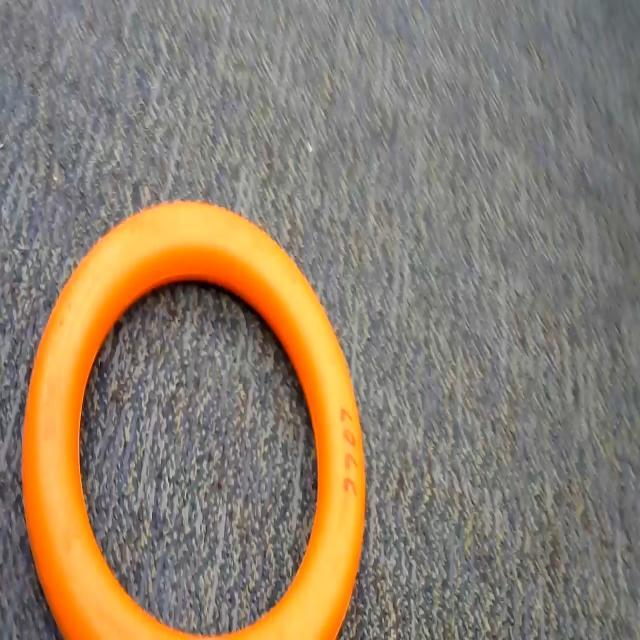note: (18, 192, 371, 640)
